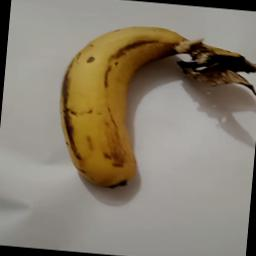Banana Unripe: (47, 16, 256, 206)
